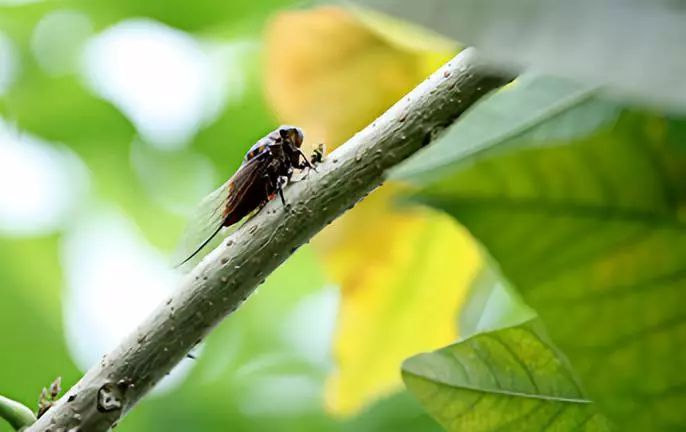chan: (165, 109, 320, 259)
